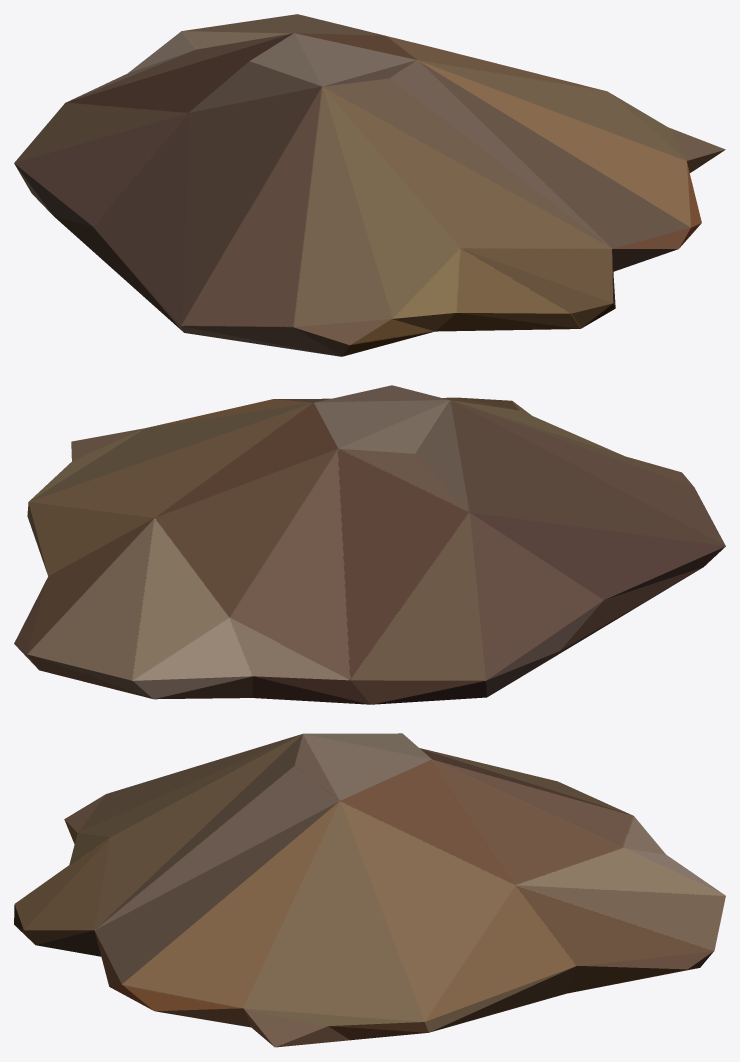
The model's file is earth.fbx.
3 renders of one model, top to bottom at view 1: azimuth 30°, elevation 25°; view 2: azimuth 150°, elevation 25°; view 3: azimuth 270°, elevation 25°, orthographic. The views are drawn at different scales.
Parts seen in each view (by area): view 1: Mesh_0; view 2: Mesh_0; view 3: Mesh_0.
Part boxes in pixels (left/top/right/bottom): Mesh_0: left=14, top=14, right=725, bottom=356; Mesh_0: left=14, top=385, right=725, bottom=704; Mesh_0: left=14, top=733, right=725, bottom=1047.
Size of the model in its own units: 106 by 30.99 by 118.
1 material, 1 textured.
